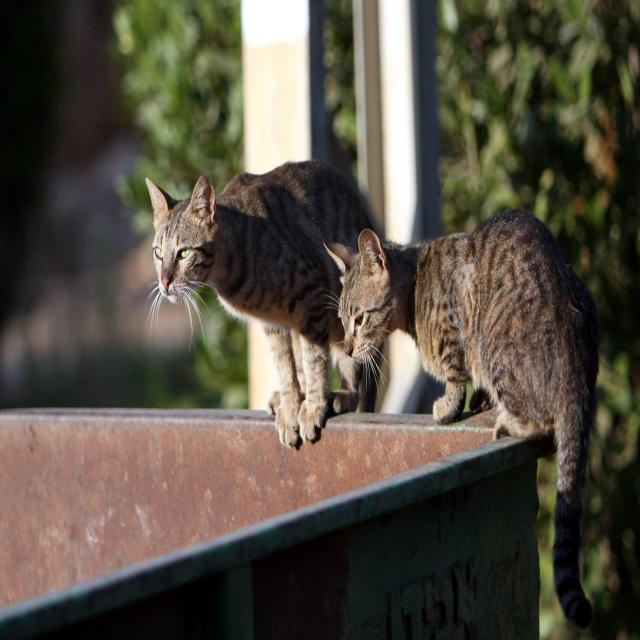cat: (326, 210, 598, 626), (146, 161, 378, 446)
